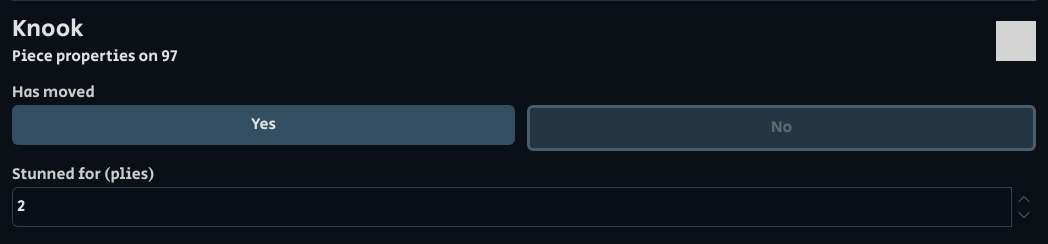
SetupPositionPieceProperties › should decrement stunnedForTurns when decrement is clicked
Click the button with test id "setupPiecePropertiesDecrementStunned": click(1024, 215) [1016, 207, 1032, 223]
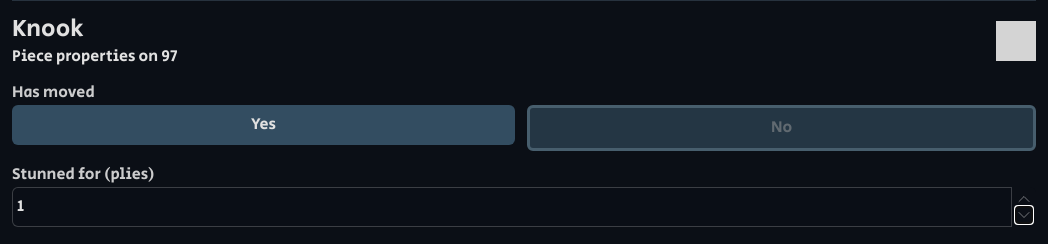
Expected: the number field labelled "Stunned for (plies)" holds "1", [12, 187, 1012, 227]
